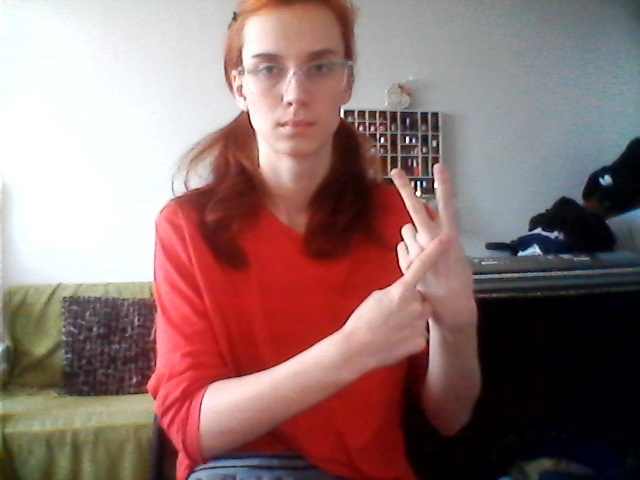y: (338, 157, 499, 362)
